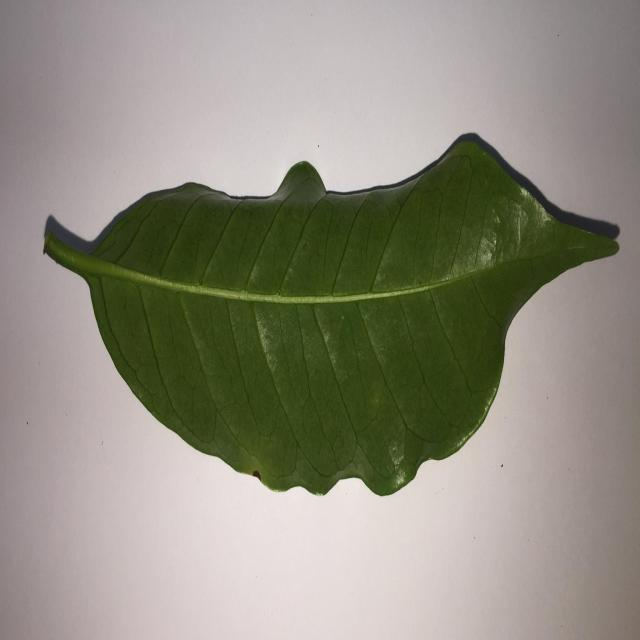nodisease: (44, 134, 619, 495)
